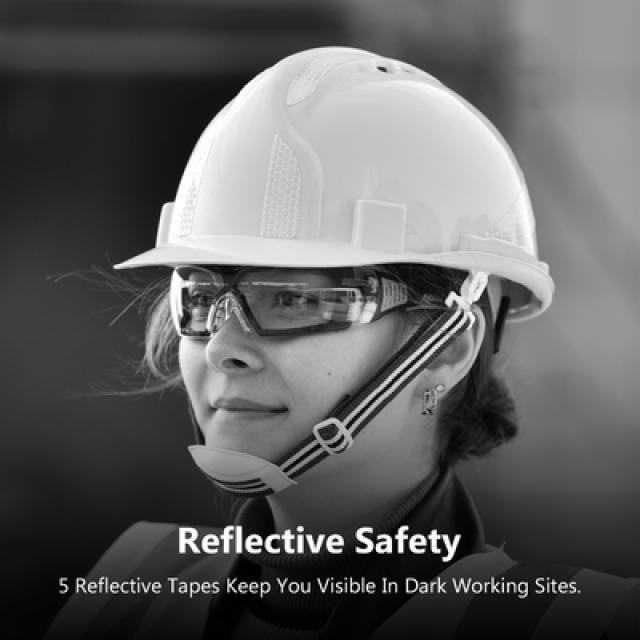safety_helmet: (113, 43, 554, 321)
